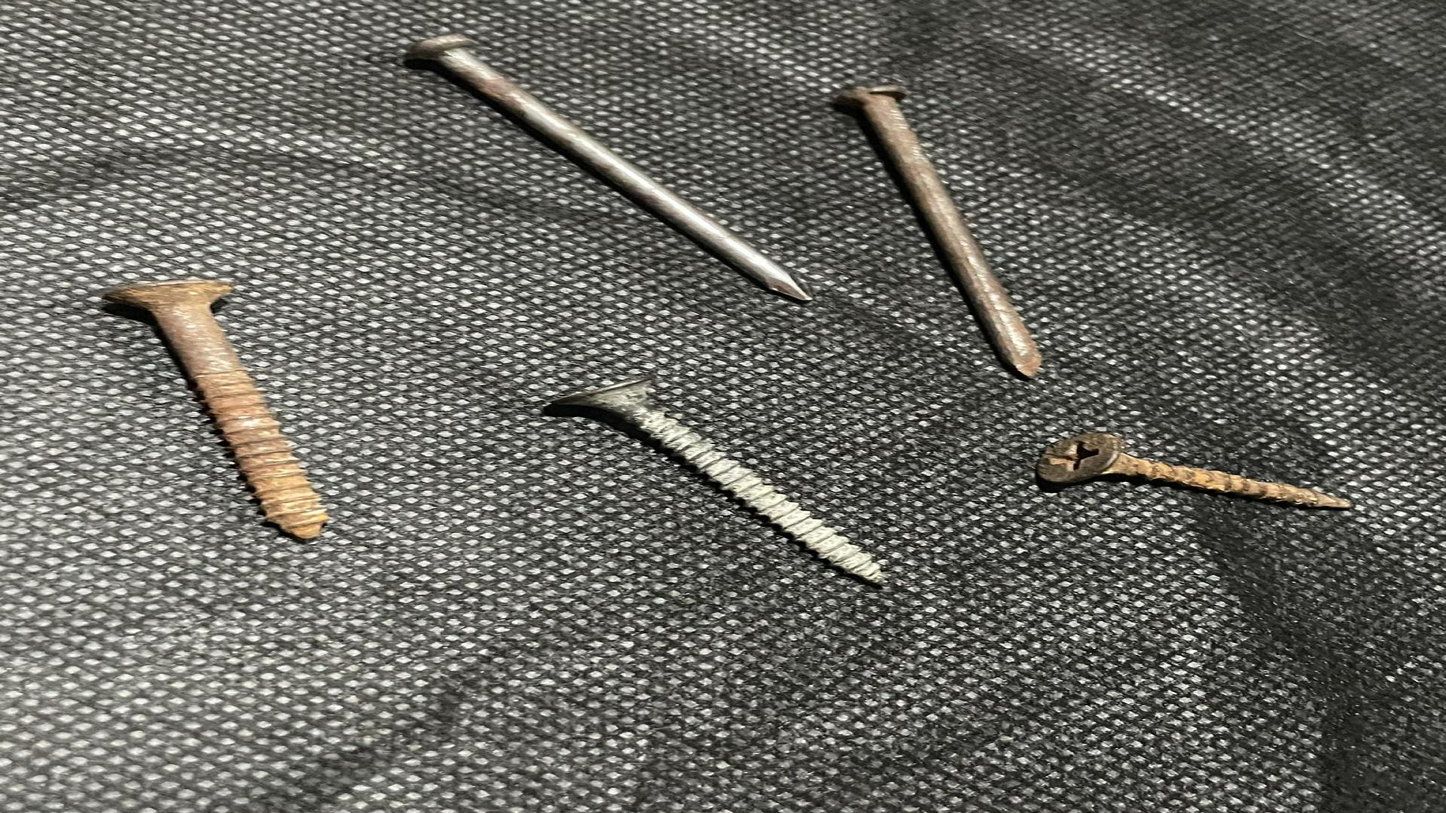nail: (380, 22, 825, 310), (784, 74, 1104, 380)
screw: (530, 345, 901, 615), (88, 260, 386, 552), (1023, 409, 1378, 532)
